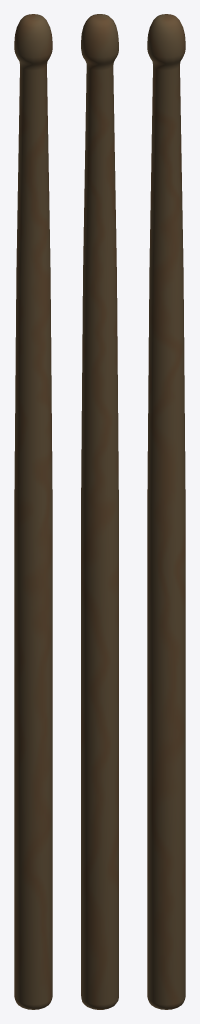
The model's file is drum stick.fbx.
3 renders of one model, left to right at view 1: azimuth 90°, elevation 25°; view 2: azimuth 150°, elevation 25°; view 3: azimuth 270°, elevation 25°, orthographic.
Parts seen in each view (by area): view 1: DrumStick; view 2: DrumStick; view 3: DrumStick.
Part boxes in pixels (x1,y1,x2,y2): DrumStick: (14, 14, 52, 1009); DrumStick: (81, 14, 118, 1009); DrumStick: (147, 14, 185, 1009).
Bounding box in the file's own units: 1.16 × 33.08 × 1.16.
